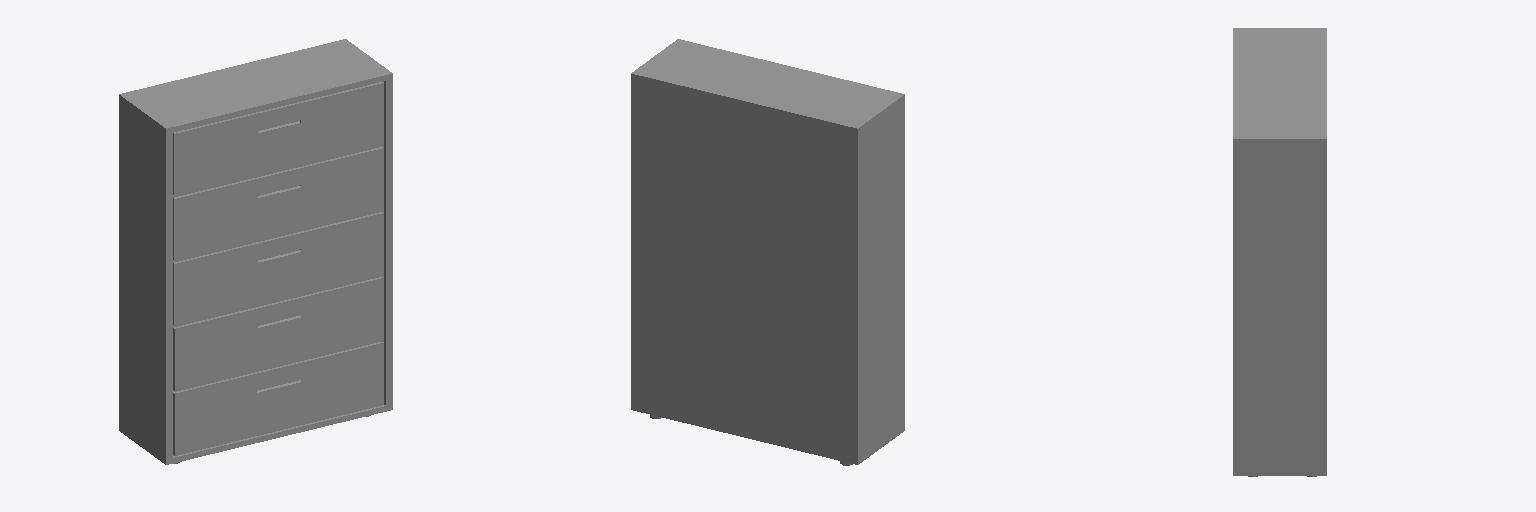
Rendered from Drawer.obj.
3 views of the same model, side by side, from view 1: azimuth 30°, elevation 25°; view 2: azimuth 150°, elevation 25°; view 3: azimuth 270°, elevation 25° (orthographic).
Visible parts, largest first — view 1: cabinet_Cube_004; view 2: cabinet_Cube_004; view 3: cabinet_Cube_004.
Boxes of the visible parts, <box> form: cabinet_Cube_004: <box>119,39,392,464</box>; cabinet_Cube_004: <box>631,39,904,464</box>; cabinet_Cube_004: <box>1233,28,1326,475</box>.
Size of the model in its own units: 0.6865 by 0.9952 by 0.2471.